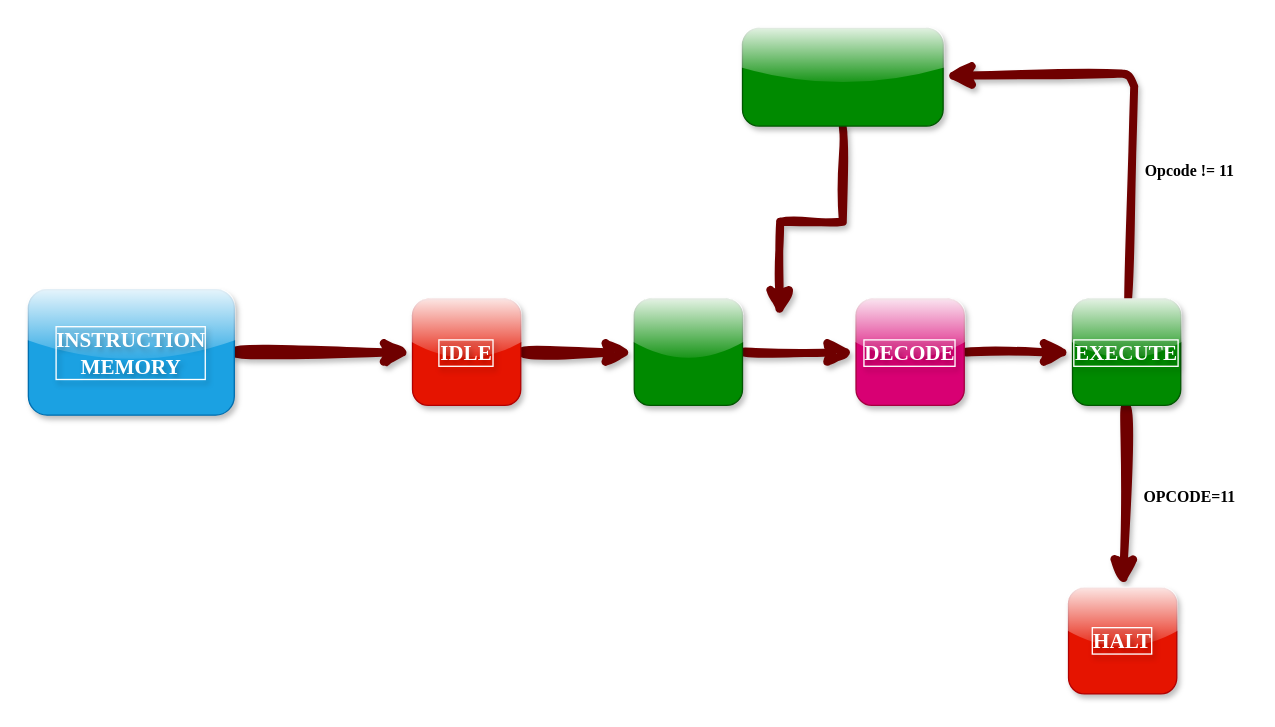
Some shapes in this 1275 by 727 pixel diagram are drawn without their labels. Here are the shapes that lost their labels. From the top down, the centre of each, then its label:
At pixel 843 78: "WRITEBACK".
At pixel 689 354: "FETCH".
